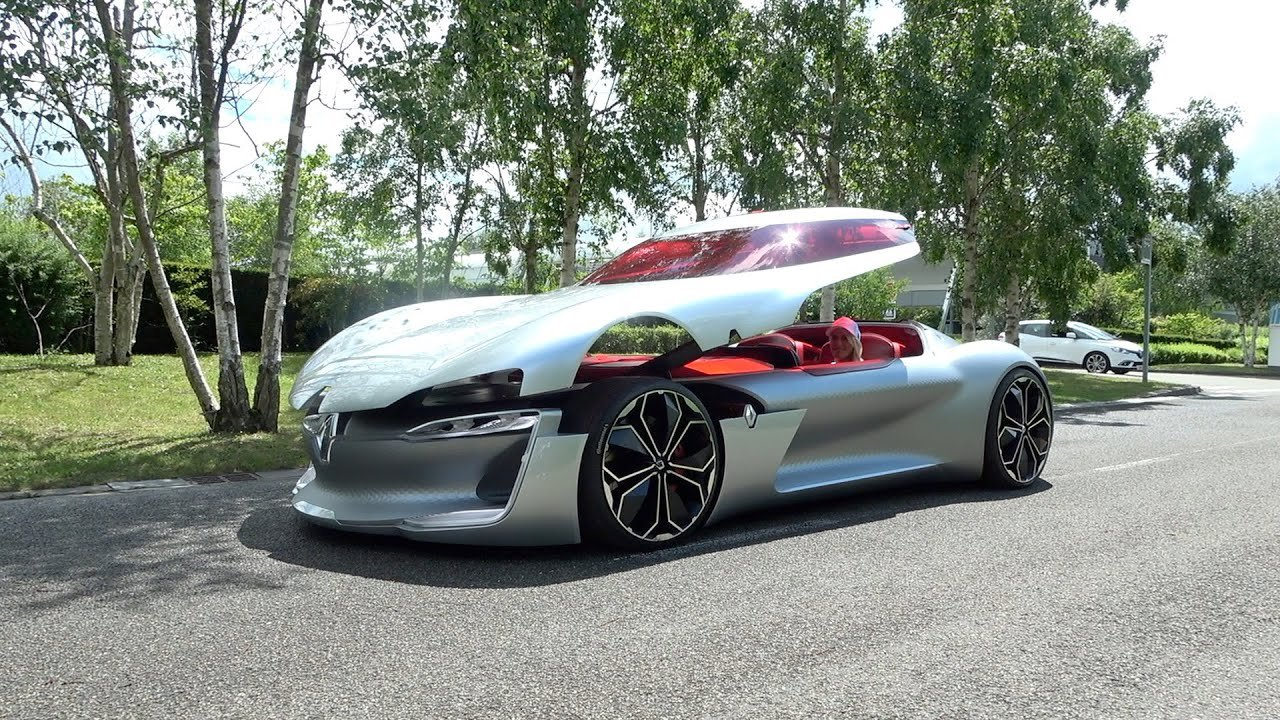car: (282, 200, 1059, 560), (1008, 309, 1152, 385)
